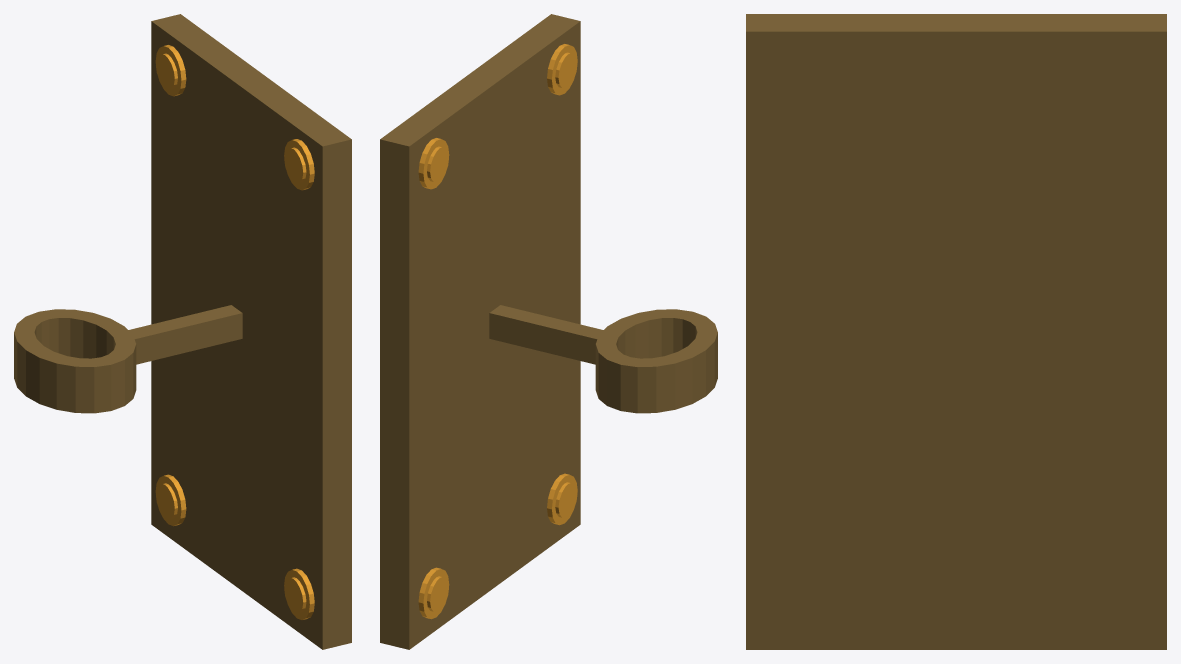
The model's file is antorcha_soporte.fbx.
The picture shows the model from 3 angles, left to right: view 1: azimuth 30°, elevation 25°; view 2: azimuth 150°, elevation 25°; view 3: azimuth 270°, elevation 25°; orthographic projection. The views are drawn at different scales.
Visible parts, largest first — view 1: antorcha_soporte; view 2: antorcha_soporte; view 3: antorcha_soporte.
Part boxes in pixels (x1,y1,x2,y2): antorcha_soporte: (14,14,351,649); antorcha_soporte: (380,14,717,649); antorcha_soporte: (746,14,1166,649).
Bounding box in the file's own units: 36.29 × 72.68 × 44.82.
